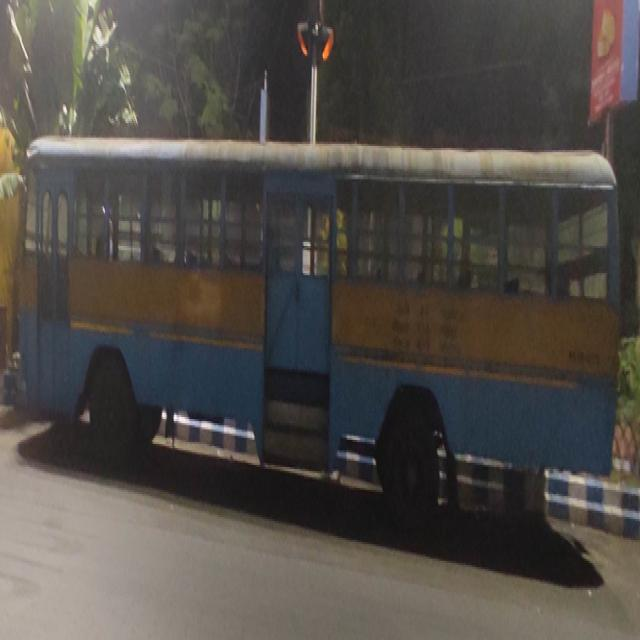bus: (22, 136, 622, 512)
